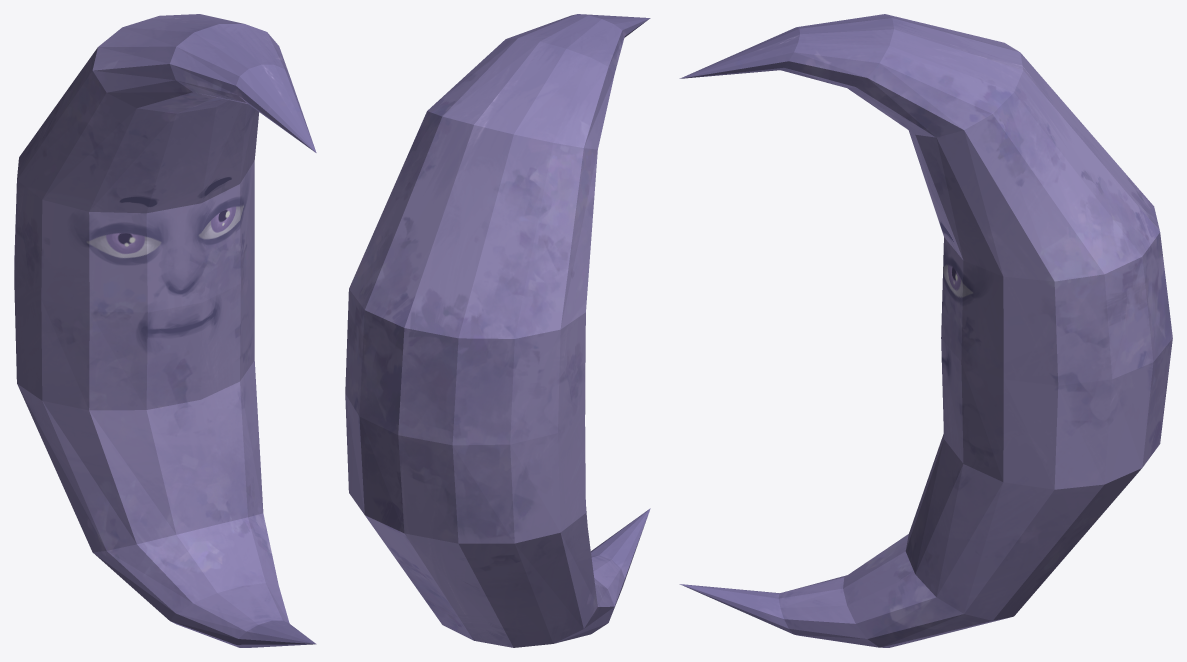
Rendered from moon.fbx.
3 views of the same model, side by side, from view 1: azimuth 30°, elevation 25°; view 2: azimuth 150°, elevation 25°; view 3: azimuth 270°, elevation 25° (orthographic). The views are drawn at different scales.
Parts seen in each view (by area): view 1: pCylinder1; view 2: pCylinder1; view 3: pCylinder1.
Part boxes in pixels (x1,y1,x2,y2): pCylinder1: [14, 14, 316, 647]; pCylinder1: [345, 14, 650, 647]; pCylinder1: [679, 14, 1172, 647].
Size of the model in its own units: 0.0311 by 0.083 by 0.0608.
